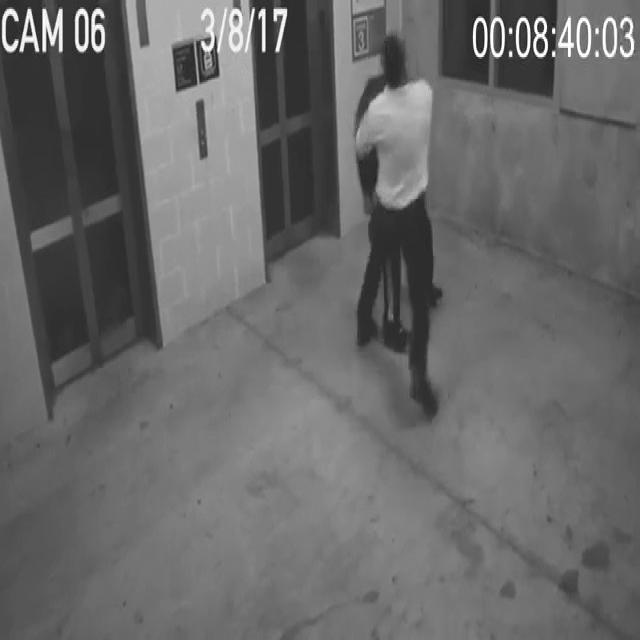fight: (352, 33, 449, 423)
